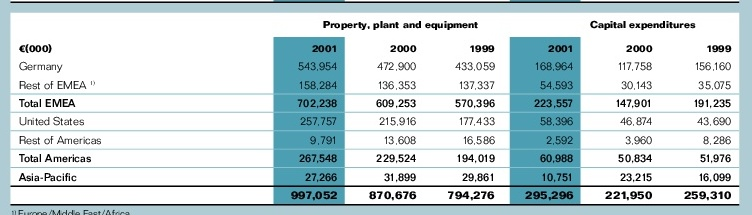table: (0, 0, 752, 215)
